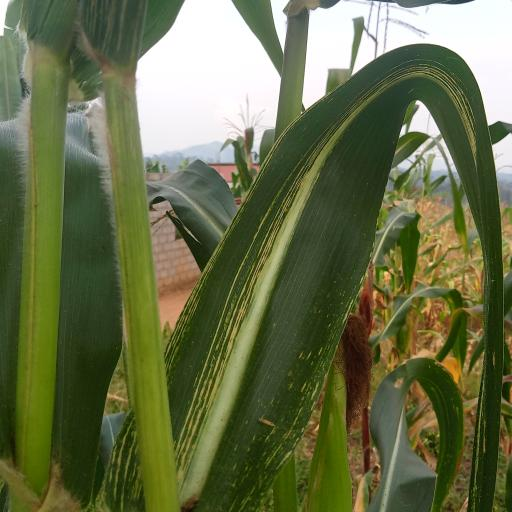Corn_Streak: (77, 43, 512, 512)
